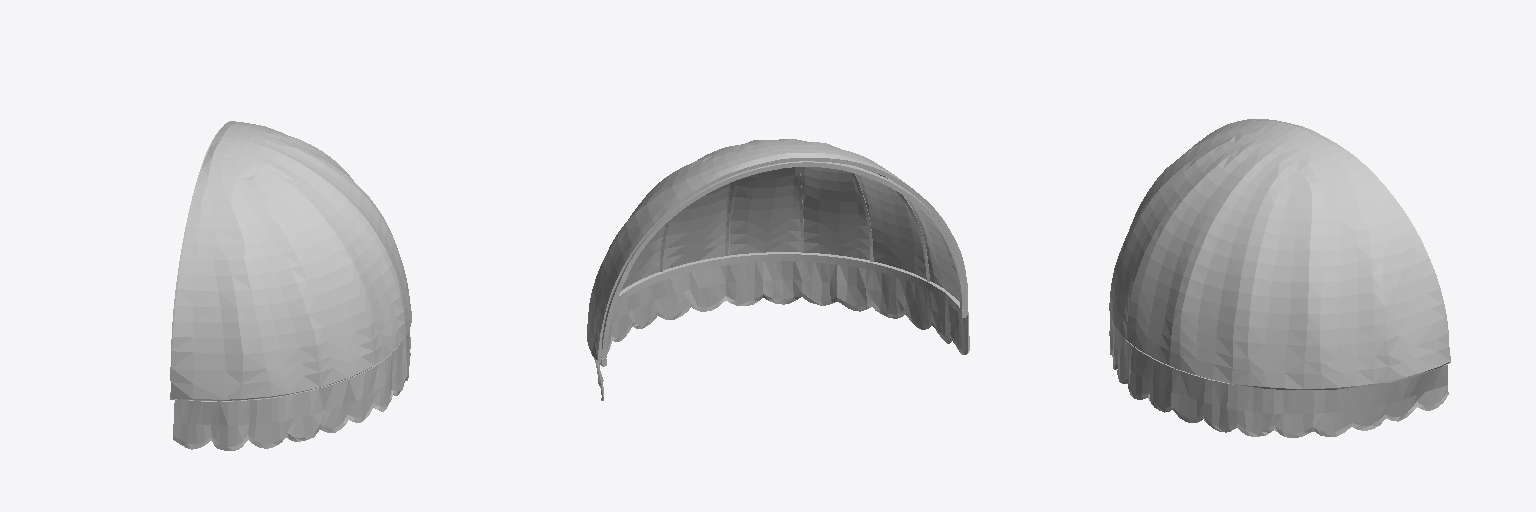
The picture shows the model from 3 angles: view 1: azimuth 30°, elevation 25°; view 2: azimuth 150°, elevation 25°; view 3: azimuth 270°, elevation 25°; orthographic projection.
Parts seen in each view (by area): view 1: Bistro_Research_Exterior_Paris_BistroAwning_02B6_4125; view 2: Bistro_Research_Exterior_Paris_BistroAwning_02B6_4125; view 3: Bistro_Research_Exterior_Paris_BistroAwning_02B6_4125.
Boxes of the visible parts, x1,y1,x2,y2 form: Bistro_Research_Exterior_Paris_BistroAwning_02B6_4125: [170, 121, 411, 450]; Bistro_Research_Exterior_Paris_BistroAwning_02B6_4125: [587, 139, 969, 400]; Bistro_Research_Exterior_Paris_BistroAwning_02B6_4125: [1109, 119, 1450, 437].
Size of the model in its own units: 2.27 by 1.76 by 2.36.